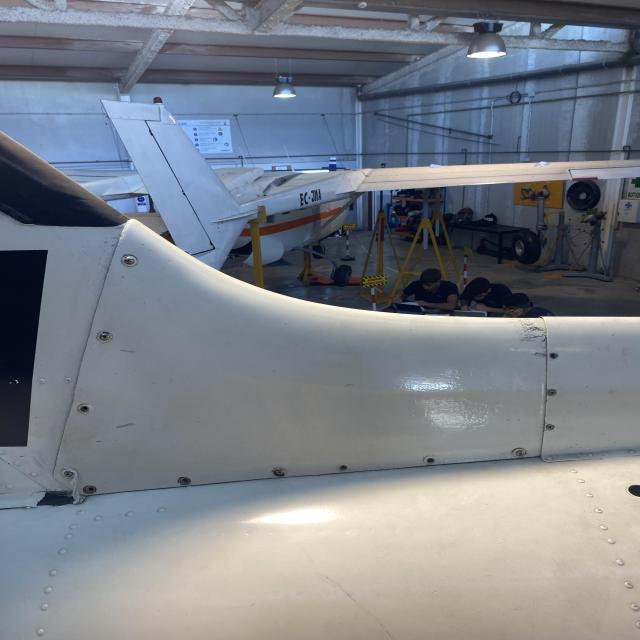Missing Fastener: (74, 403, 90, 413), (548, 352, 558, 358)
